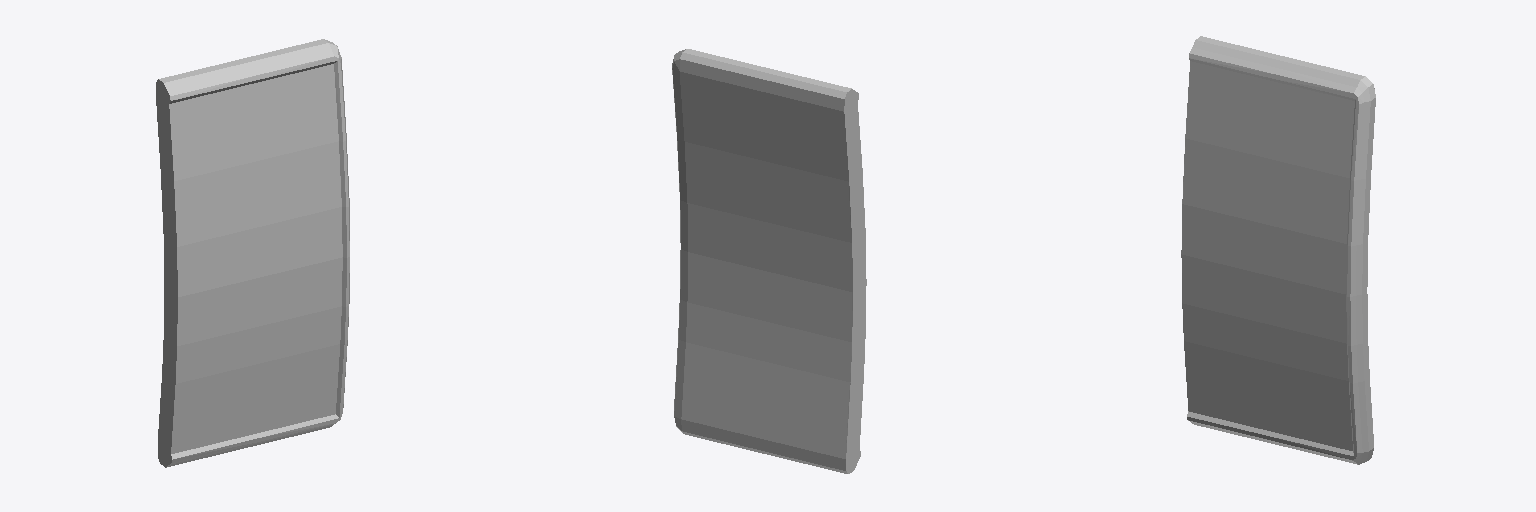
3 views of the same model, side by side, from view 1: azimuth 30°, elevation 25°; view 2: azimuth 150°, elevation 25°; view 3: azimuth 330°, elevation 25° (orthographic).
Visible parts, largest first — view 1: Seat; view 2: Seat; view 3: Seat.
Part boxes in pixels (x1,y1,x2,y2): Seat: (156,39,349,467); Seat: (672,49,866,473); Seat: (1181,36,1375,464).
Size of the model in its own units: 0.3044 by 0.6314 by 0.0714.